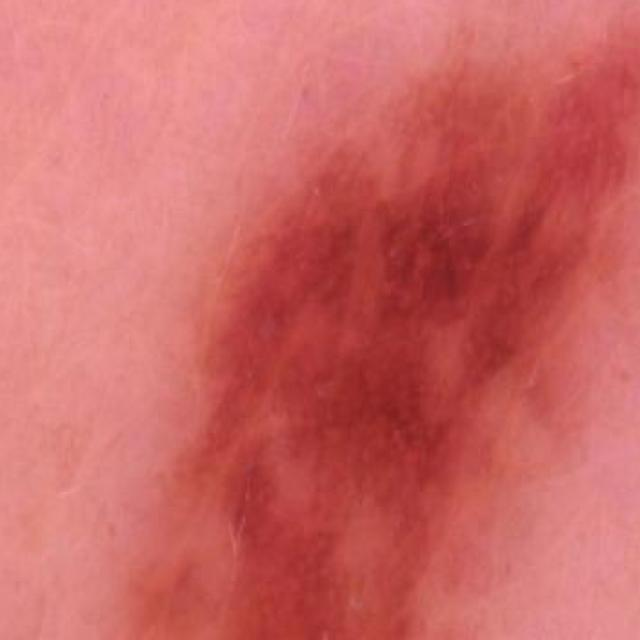NV: (87, 0, 640, 640)
